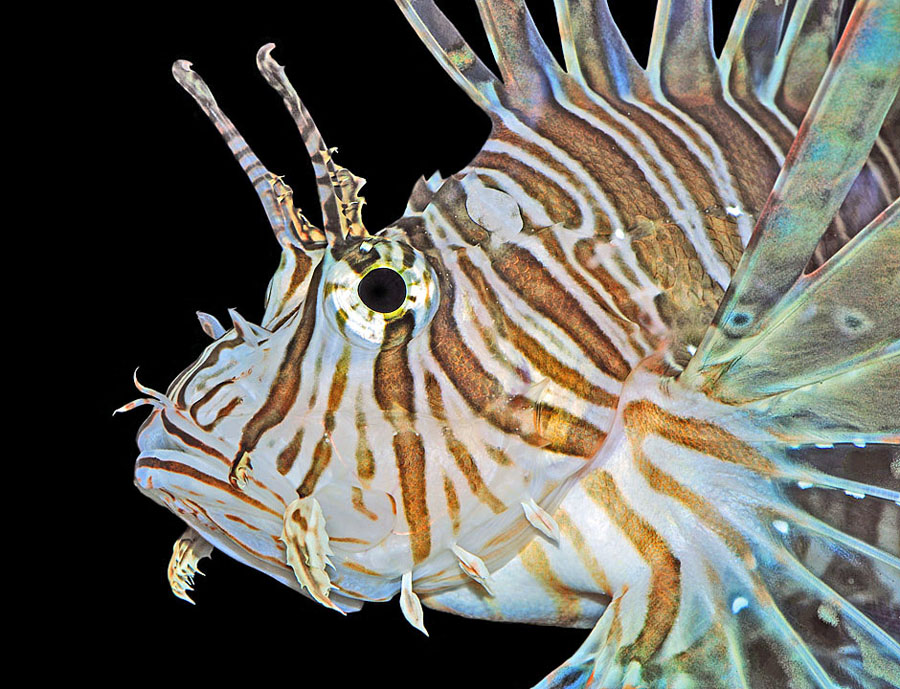Pterois_volitans: (67, 2, 900, 663)
